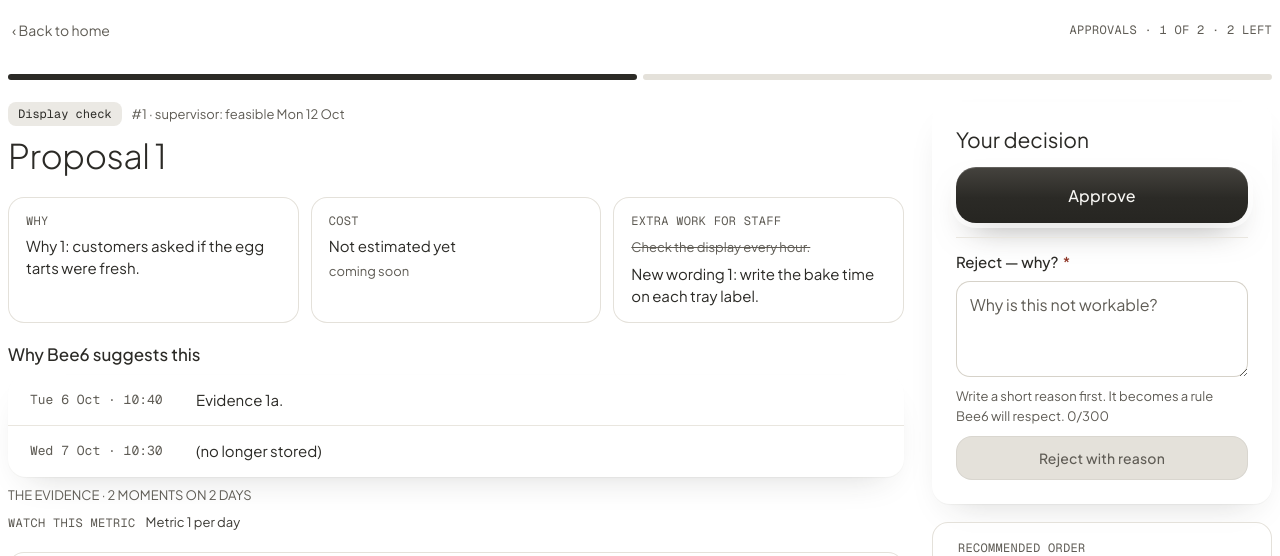
Test: ApprovalsReview — approve › a 409 shows its message and reloads
The image size is (1280, 556).
Expected: the heading "Proposal 1" is shown, [8, 134, 166, 177]
Click the button "Approve". click: (1102, 195)
box: [956, 167, 1248, 223]
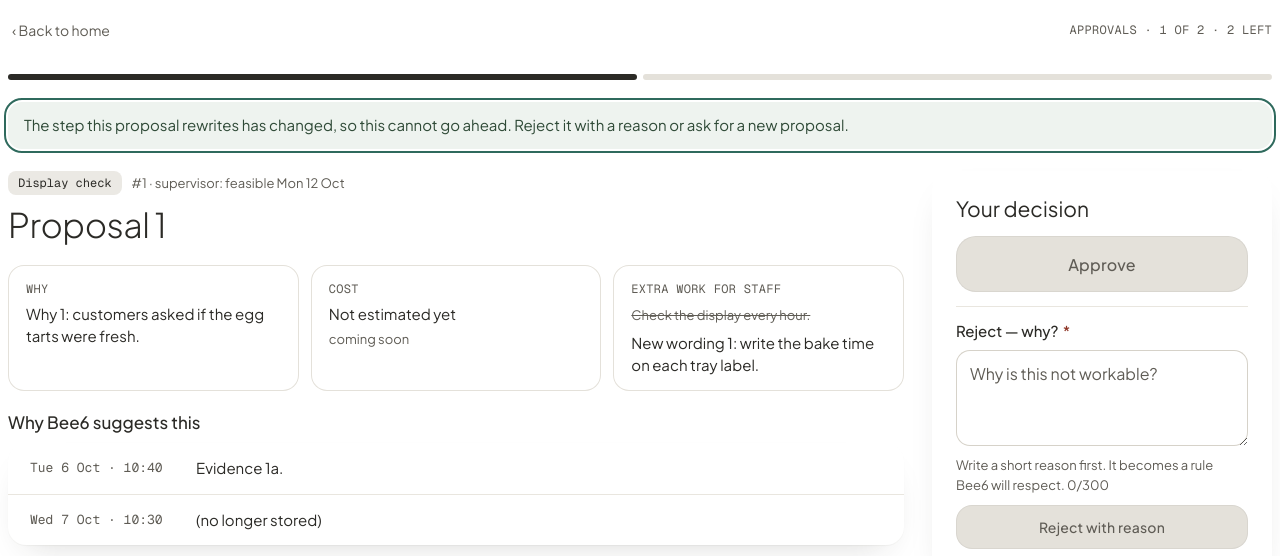
Expected: the text "The step this proposal rewrites has changed, so this cannot go ahead. Reject it with a reason or ask for a new proposal." is shown, [24, 115, 849, 134]
